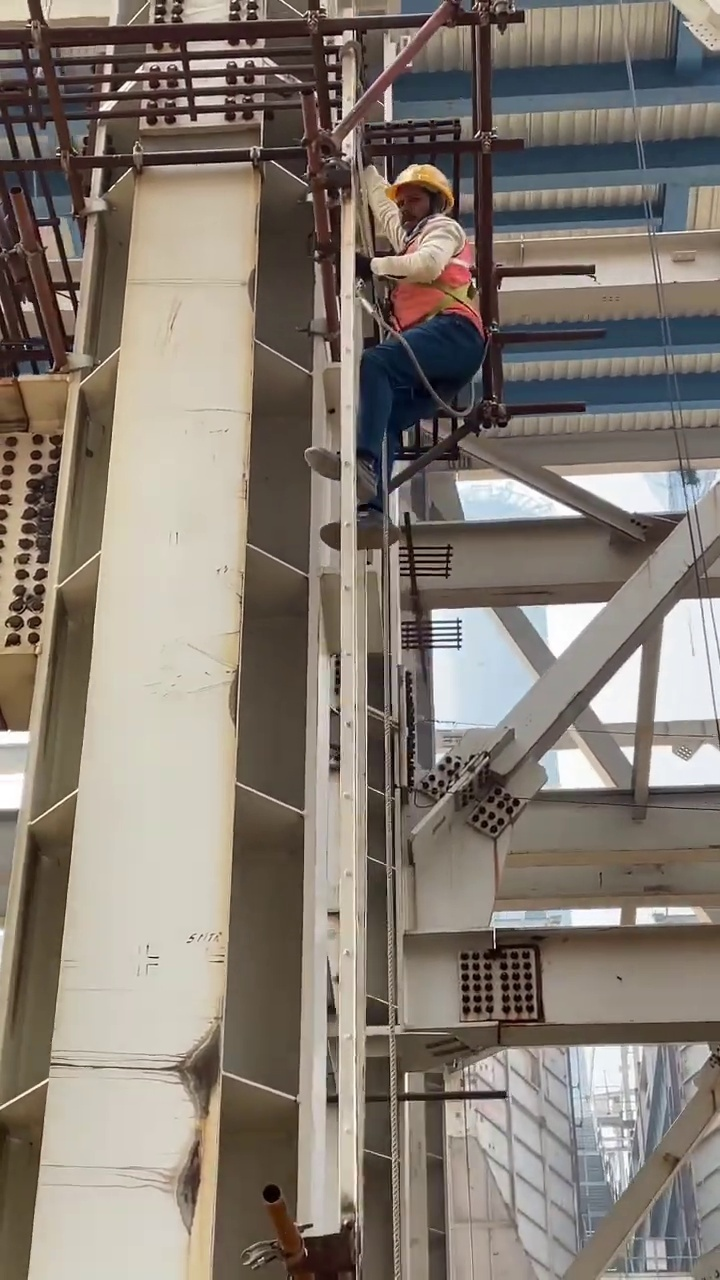Helmet: (395, 166, 461, 209)
Person: (309, 166, 489, 564)
Safety_Harness: (383, 220, 489, 412)
Safety_shoes: (305, 439, 383, 505), (319, 510, 402, 554)
